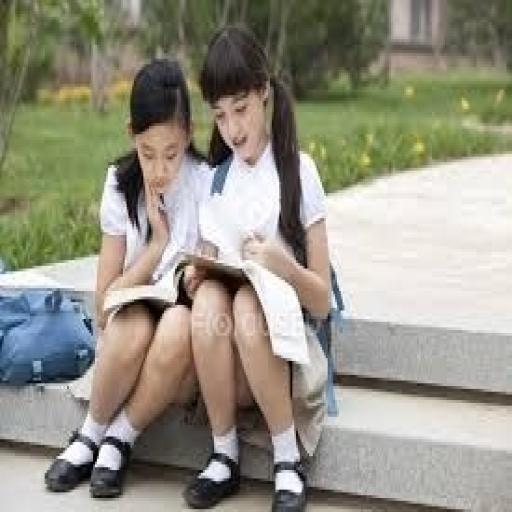sitting: (181, 20, 333, 509), (43, 53, 210, 498)
